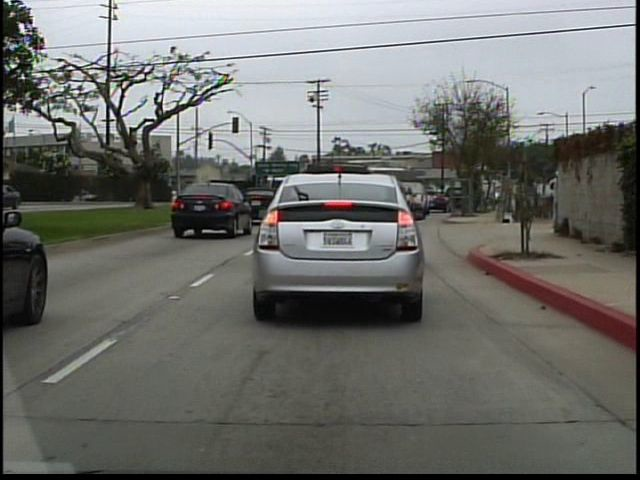person: (545, 164, 564, 241)
